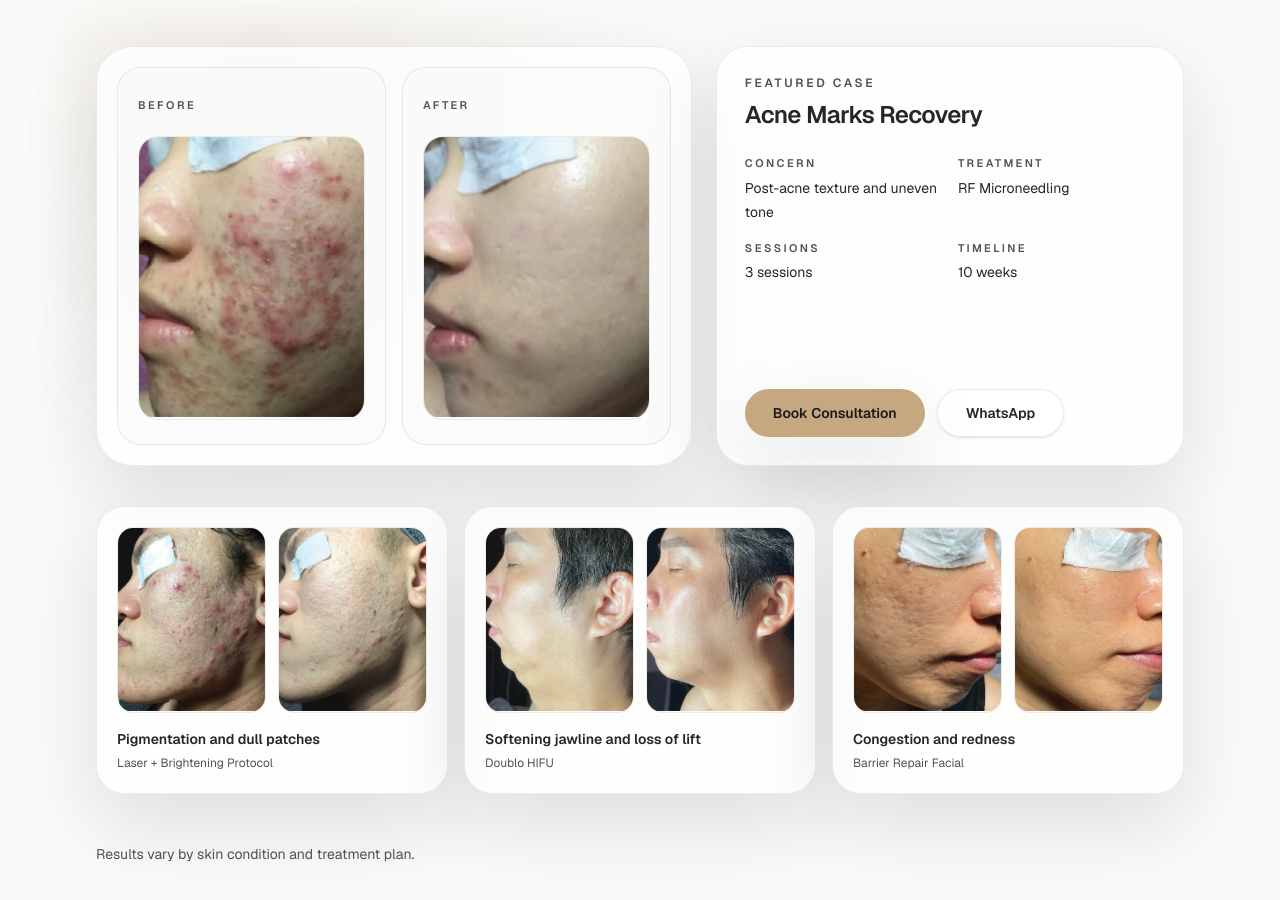
Test case: BeforeAfterResultsSection › swaps the featured case when a supporting selector is clicked
(page scrolled)
Expected: the heading "Acne Marks Recovery" is shown, [745,99,982,130]
Expected: the text "RF Microneedling" is shown, [958,178,1070,196]
Click the button with aria-label "Show result case: Pigmentation Reset": x=192, y=620 [96,506,448,794]
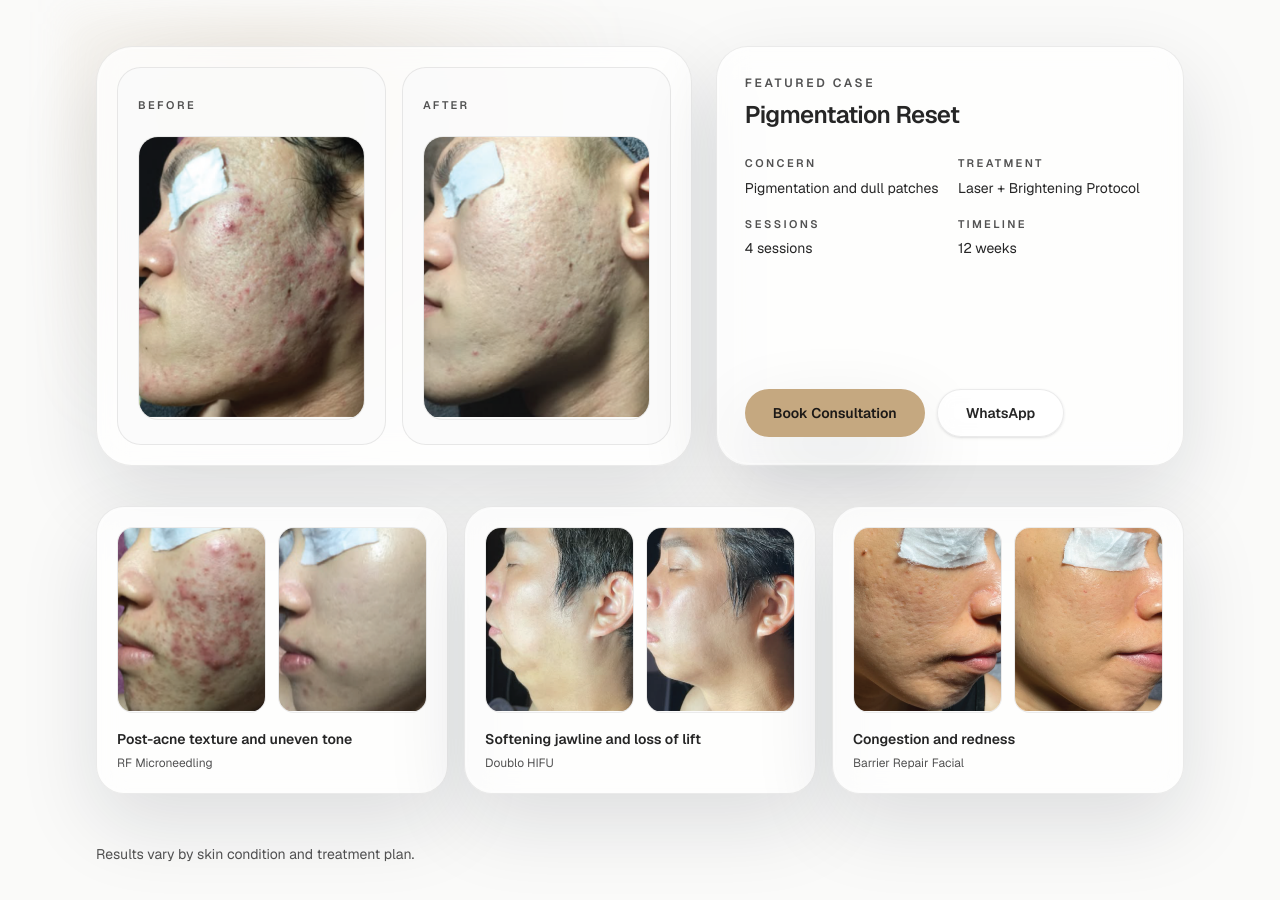
Expected: the number of buttons named "Show result case:" is 3, [96,506,448,794]; [464,506,816,794]; [832,506,1184,794]
Result: the heading "Pigmentation Reset" is shown at [745,99,959,130]
Result: the text "Laser + Brightening Protocol" is shown at [958,176,1155,200]
